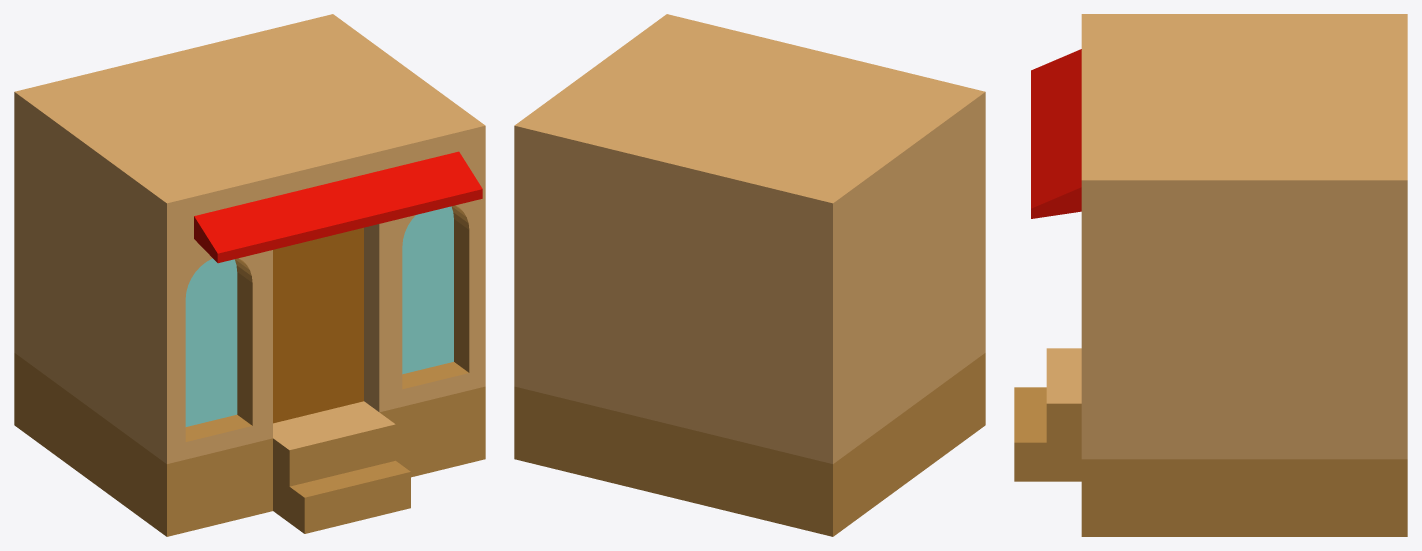
The model's file is Building Base3.fbx.
3 renders of one model, left to right at view 1: azimuth 30°, elevation 25°; view 2: azimuth 150°, elevation 25°; view 3: azimuth 270°, elevation 25°, orthographic. The views are drawn at different scales.
Visible parts, largest first — view 1: base5; view 2: base5; view 3: base5.
Boxes of the visible parts, x1=… form: base5: x1=14, y1=14, x2=485, y2=536; base5: x1=514, y1=14, x2=985, y2=536; base5: x1=1014, y1=14, x2=1407, y2=536.
Bounding box in the file's own units: 300 × 300 × 300.
